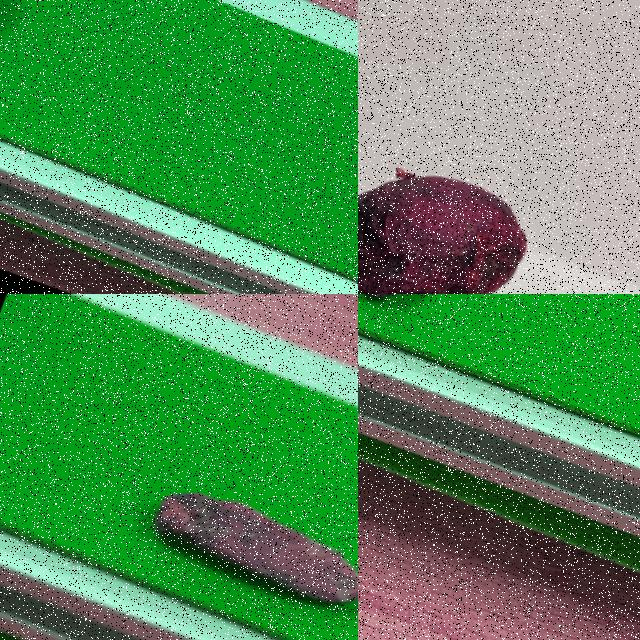Agglomerated_cocoabeans: (358, 57, 639, 293)
Fine_cocoabeans: (0, 0, 135, 150)
Flat_cocoabeans: (47, 394, 357, 639), (358, 294, 525, 392)
